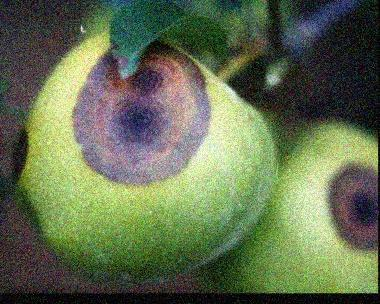rotten apple: (9, 33, 272, 283), (223, 122, 378, 293)
